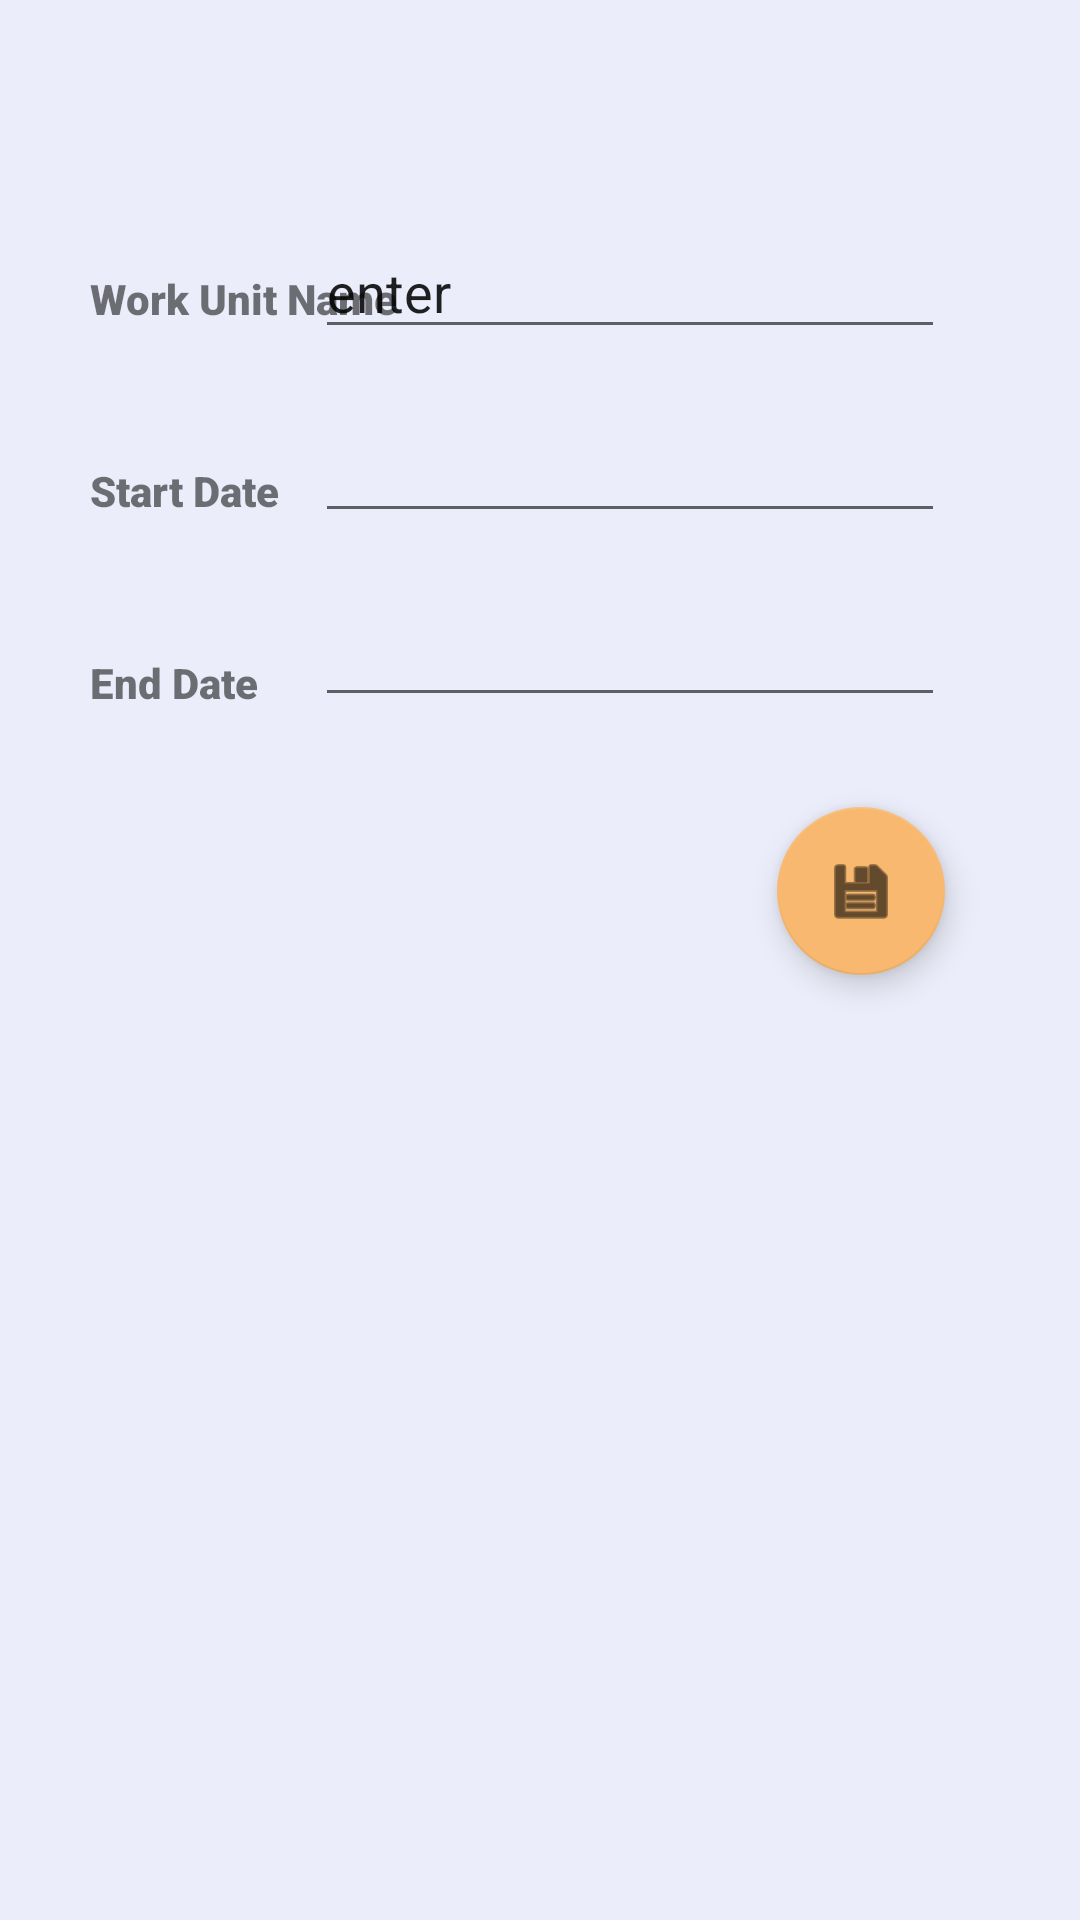

Where to tap for icons on this 1080 x 1920 app screen, as (x,y):
save: (861,891)
